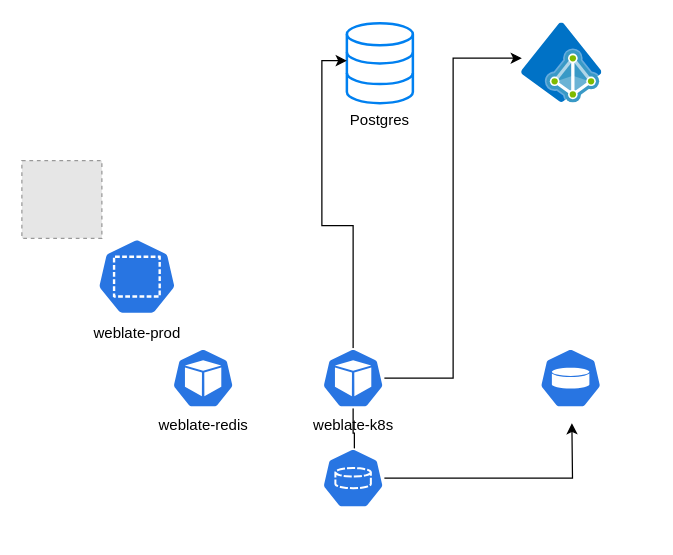
This 673x555 diagram has some shape labels left out. Grey dashed boxes stand in for pictures. The box of each missing label's shape, as (x1, y1, x2, y2) in pixels:
App basic data: (321, 447, 384, 508)
azure ad (ldaps connector): (521, 22, 601, 102)
